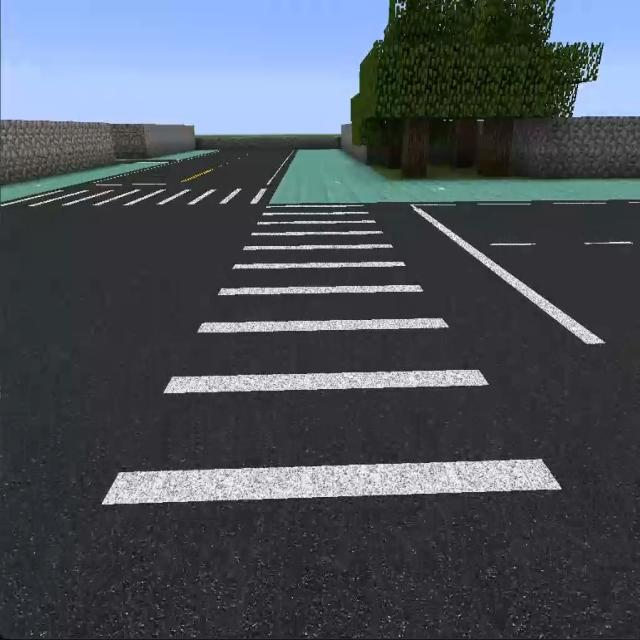crosswalk: (33, 204, 636, 630), (5, 184, 277, 213)
road: (6, 217, 246, 625), (394, 196, 637, 515), (86, 152, 295, 188)
sidewalk: (271, 150, 639, 204), (0, 163, 156, 203), (153, 150, 217, 162)
